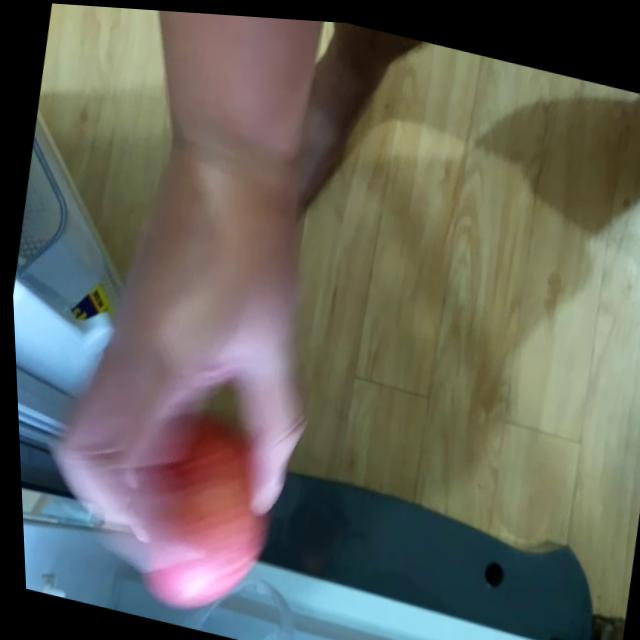apple: (121, 412, 279, 613)
